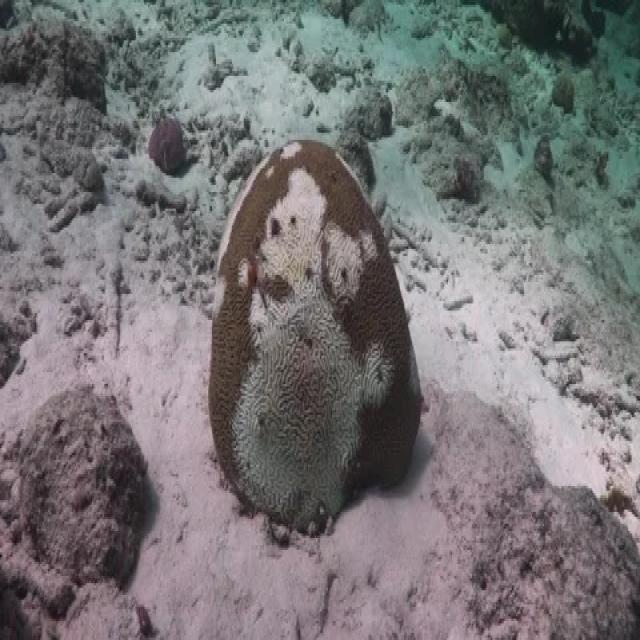Coral: (208, 139, 422, 534)
